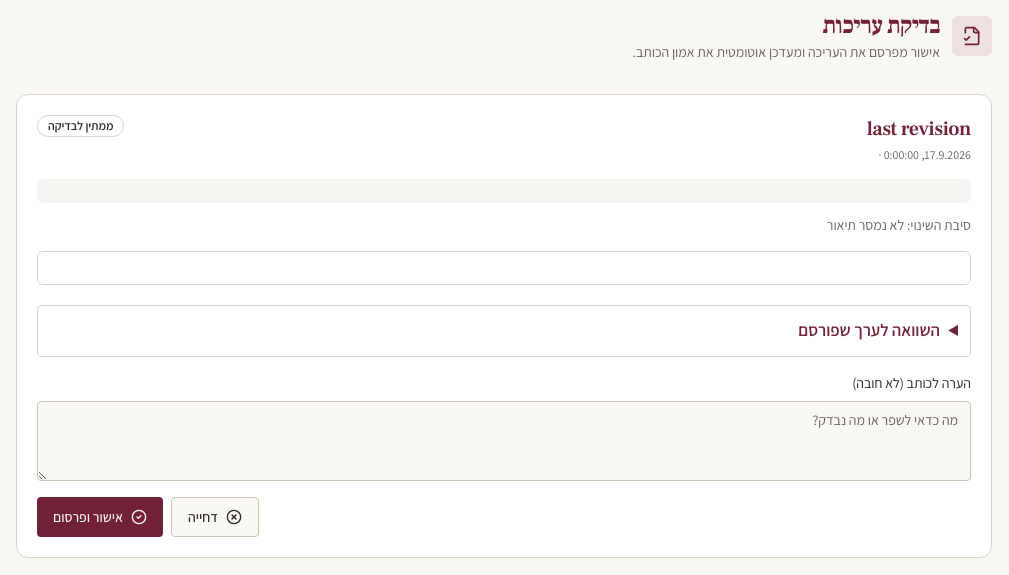
Scenario: does not report an empty queue when the post-review reload fails
Check: the heading "last revision" is shown, box [867,115,971,143]
Click the button "דחייה": (215, 516) [171,496,259,536]
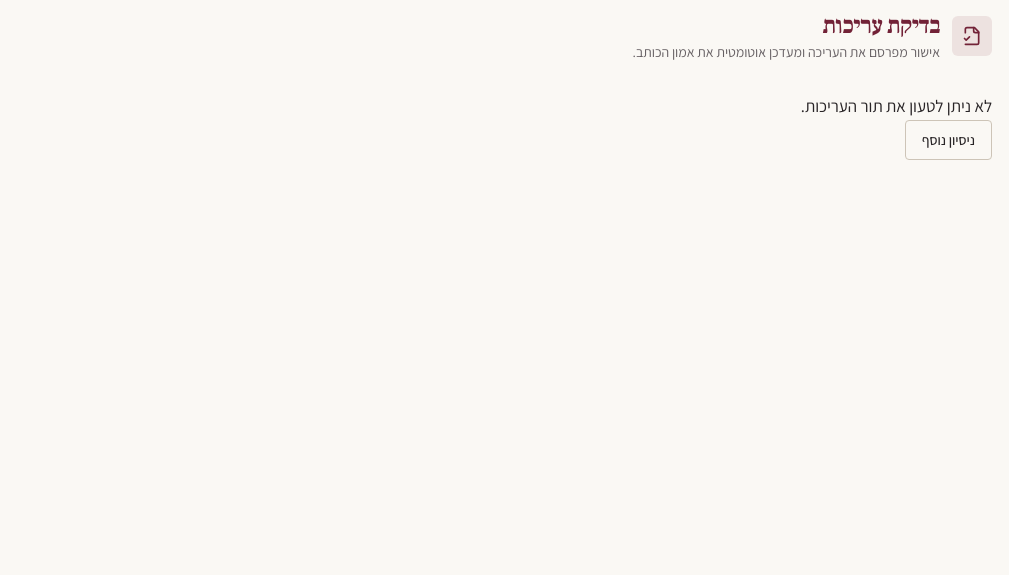
Check: the text "אין עריכות שממתינות לבדיקה." is not shown
Check: the text "לא ניתן לטעון את תור העריכות." is shown, box [801,95,992,117]
Click the button "ניסיון נוסף": (948, 140) [905,120,992,160]
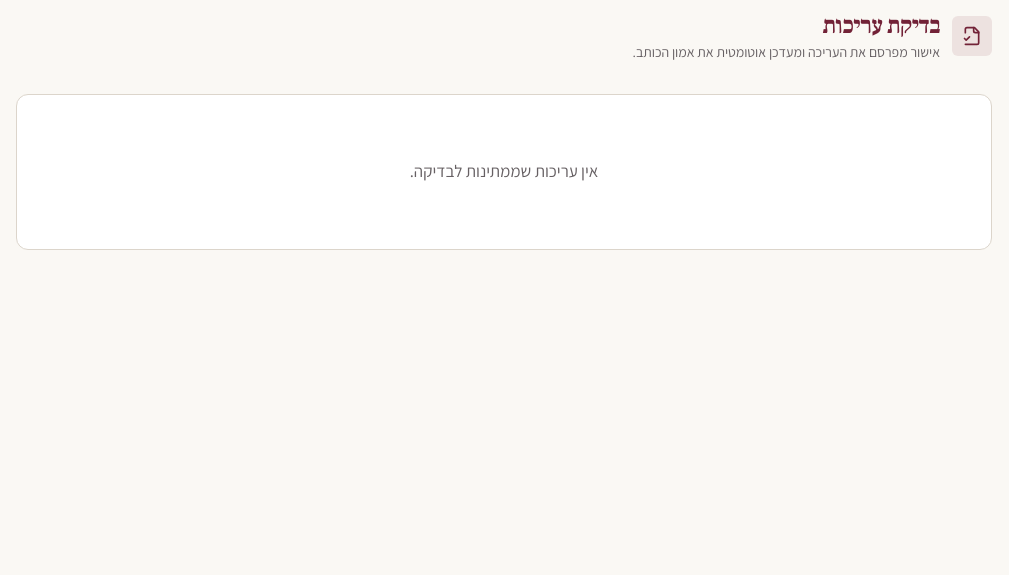
Check: the text "אין עריכות שממתינות לבדיקה." is shown, box [16,94,992,250]
